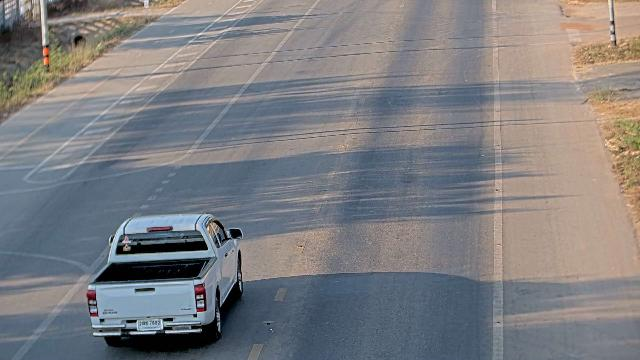pickup-truck: (85, 212, 244, 346)
